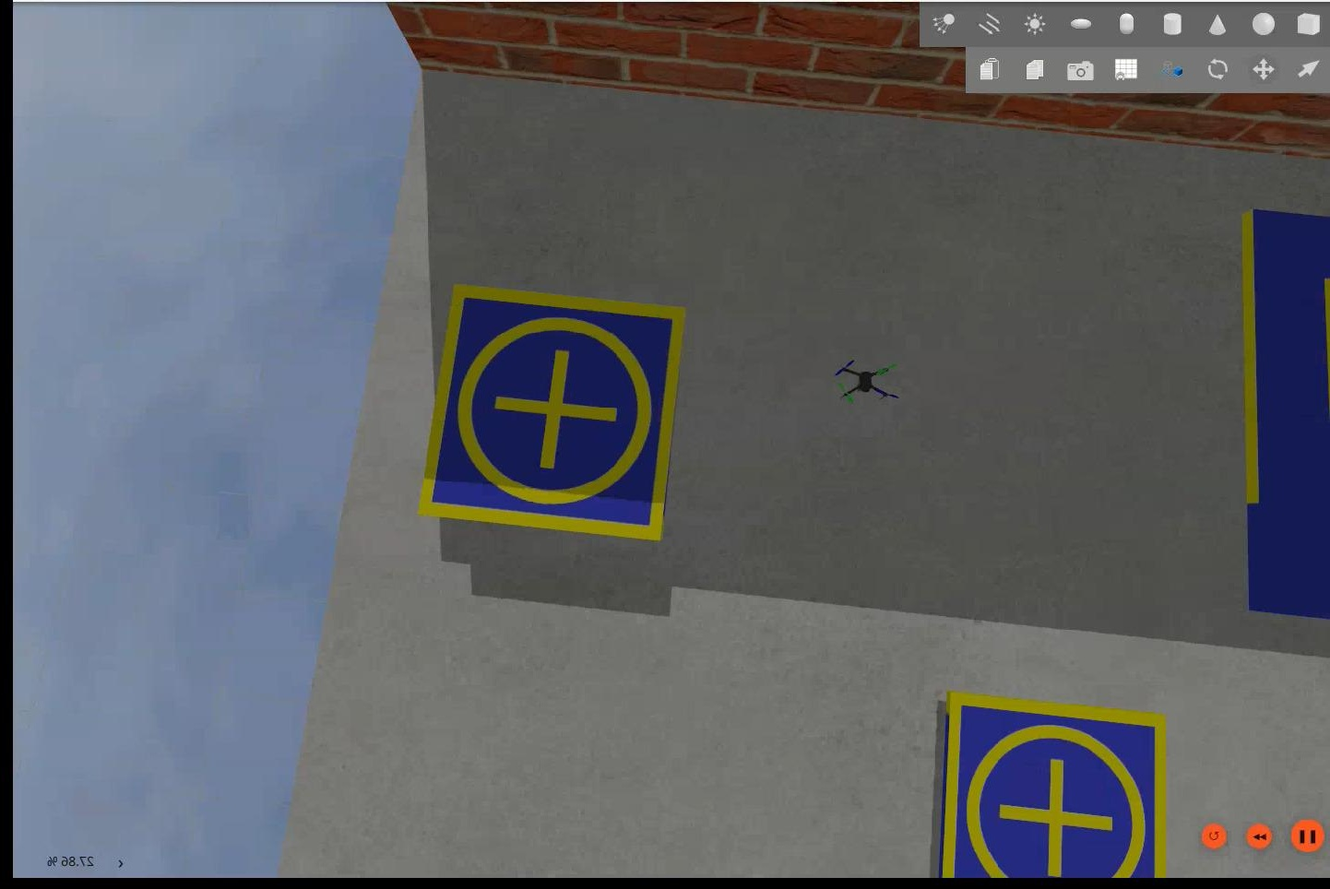large_base: (1246, 209, 1328, 616)
small_base: (415, 286, 683, 546), (933, 698, 1167, 883)
